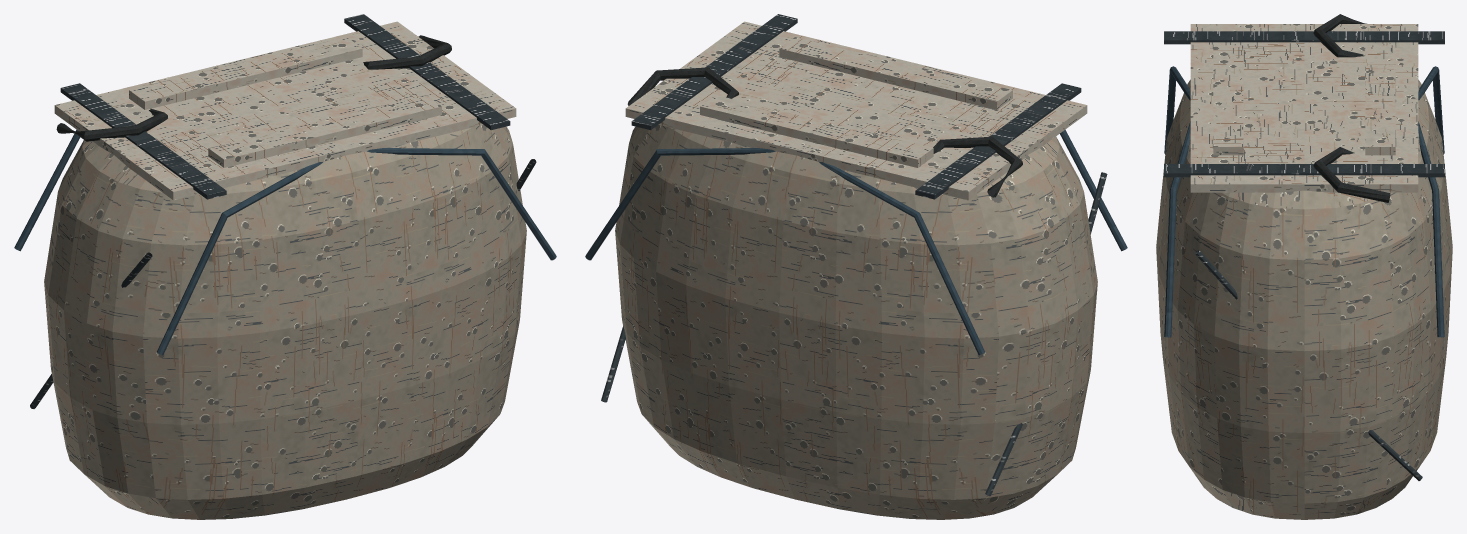
The model's file is regolith_sack.glb.
The picture shows the model from 3 angles, left to right: view 1: azimuth 30°, elevation 25°; view 2: azimuth 150°, elevation 25°; view 3: azimuth 270°, elevation 25°; orthographic projection. The views are drawn at different scales.
Visible parts, largest first — view 1: body_bulging_woven_warm_panel, flattened_lift_top_warm_shell, closure_fold_0_warm_shell, closure_fold_1_warm_shell, sewn_long_seam_+0.15_slate_panel, load_webbing_strap_0_graphite, load_webbing_strap_1_graphite, folded_loop_0_black_rubber, folded_loop_1_black_rubber, sewn_long_seam_-0.15_slate_panel; view 2: body_bulging_woven_warm_panel, flattened_lift_top_warm_shell, closure_fold_0_warm_shell, closure_fold_1_warm_shell, sewn_long_seam_-0.15_slate_panel, load_webbing_strap_0_graphite, load_webbing_strap_1_graphite, folded_loop_1_black_rubber, folded_loop_0_black_rubber, sewn_long_seam_+0.15_slate_panel, side_seam_-0.24_graphite; view 3: body_bulging_woven_warm_panel, flattened_lift_top_warm_shell, closure_fold_0_warm_shell, closure_fold_1_warm_shell, load_webbing_strap_1_graphite, load_webbing_strap_0_graphite, sewn_long_seam_-0.15_slate_panel, sewn_long_seam_+0.15_slate_panel, folded_loop_1_black_rubber, side_seam_+0.24_graphite, folded_loop_0_black_rubber.
Part boxes in pixels (x1=…): body_bulging_woven_warm_panel: x1=44, y1=125, x2=526, y2=519; flattened_lift_top_warm_shell: x1=54, y1=21, x2=516, y2=200; closure_fold_0_warm_shell: x1=129, y1=37, x2=362, y2=109; closure_fold_1_warm_shell: x1=208, y1=95, x2=441, y2=167; sewn_long_seam_+0.15_slate_panel: x1=157, y1=148, x2=556, y2=355; load_webbing_strap_0_graphite: x1=60, y1=83, x2=226, y2=199; load_webbing_strap_1_graphite: x1=344, y1=14, x2=510, y2=130; folded_loop_0_black_rubber: x1=56, y1=108, x2=167, y2=141; folded_loop_1_black_rubber: x1=363, y1=35, x2=451, y2=69; sewn_long_seam_-0.15_slate_panel: x1=14, y1=129, x2=80, y2=251; body_bulging_woven_warm_panel: x1=615, y1=125, x2=1097, y2=519; flattened_lift_top_warm_shell: x1=625, y1=21, x2=1087, y2=200; closure_fold_0_warm_shell: x1=700, y1=95, x2=933, y2=167; closure_fold_1_warm_shell: x1=779, y1=37, x2=1012, y2=109; sewn_long_seam_-0.15_slate_panel: x1=585, y1=148, x2=984, y2=355; load_webbing_strap_0_graphite: x1=915, y1=83, x2=1081, y2=199; load_webbing_strap_1_graphite: x1=631, y1=14, x2=797, y2=130; folded_loop_1_black_rubber: x1=627, y1=67, x2=738, y2=105; folded_loop_0_black_rubber: x1=933, y1=136, x2=1022, y2=197; sewn_long_seam_+0.15_slate_panel: x1=1060, y1=129, x2=1127, y2=251; side_seam_-0.24_graphite: x1=985, y1=172, x2=1107, y2=496; body_bulging_woven_warm_panel: x1=1156, y1=79, x2=1452, y2=519; flattened_lift_top_warm_shell: x1=1190, y1=24, x2=1418, y2=192; closure_fold_0_warm_shell: x1=1365, y1=45, x2=1395, y2=155; closure_fold_1_warm_shell: x1=1213, y1=45, x2=1243, y2=155; load_webbing_strap_1_graphite: x1=1164, y1=164, x2=1444, y2=177; load_webbing_strap_0_graphite: x1=1164, y1=31, x2=1444, y2=44; sewn_long_seam_-0.15_slate_panel: x1=1418, y1=66, x2=1444, y2=337; sewn_long_seam_+0.15_slate_panel: x1=1164, y1=66, x2=1190, y2=337; folded_loop_1_black_rubber: x1=1313, y1=147, x2=1390, y2=202; side_seam_+0.24_graphite: x1=1195, y1=250, x2=1422, y2=480; folded_loop_0_black_rubber: x1=1313, y1=14, x2=1366, y2=57.
Bounding box in the file's own units: 0.5497 × 0.424 × 0.3323.
5 materials, 5 textured.
